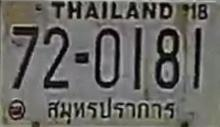0: (94, 27, 120, 87)
1: (132, 26, 142, 88), (192, 28, 200, 89)
2: (42, 26, 68, 88)
7: (11, 24, 38, 88)
8: (154, 27, 179, 88)
SPK: (45, 97, 182, 121)
